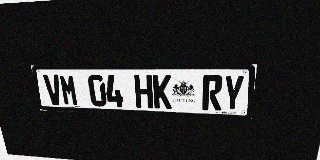0: (87, 74, 107, 107)
4: (104, 75, 124, 107)
H: (134, 75, 153, 108)
K: (152, 75, 172, 109)
M: (59, 74, 79, 106)
R: (202, 75, 223, 111)
V: (43, 74, 63, 105)
Y: (222, 75, 245, 111)
